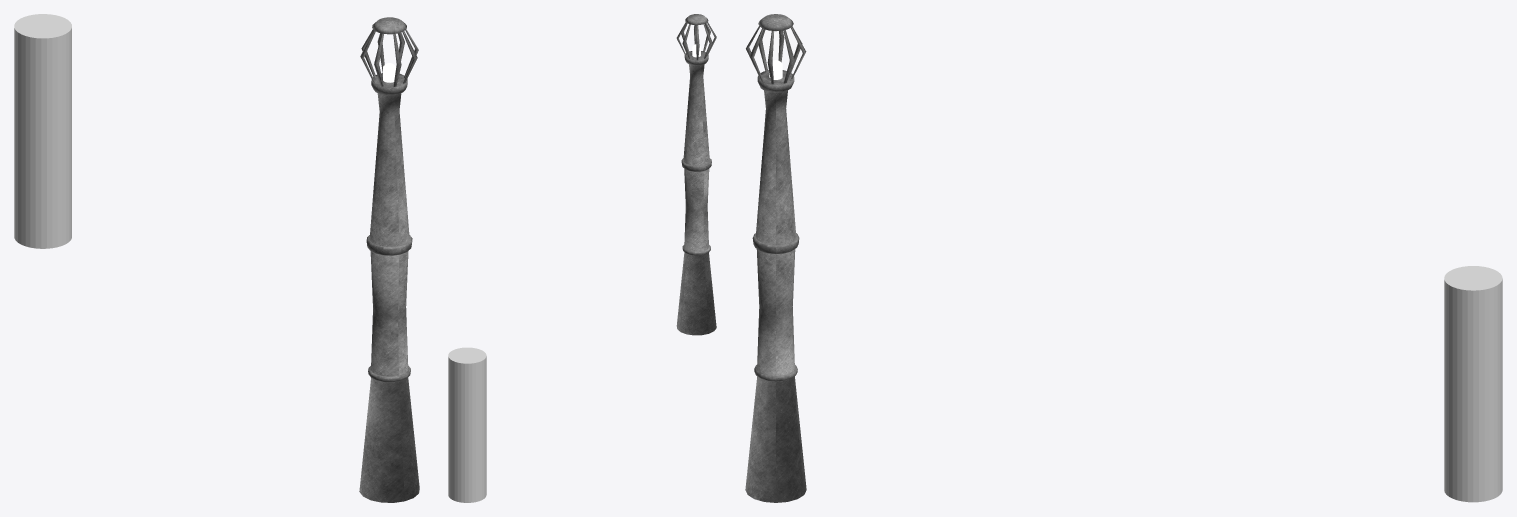
The model's file is lamp_post.glb.
The picture shows the model from 3 angles, left to right: view 1: azimuth 30°, elevation 25°; view 2: azimuth 150°, elevation 25°; view 3: azimuth 270°, elevation 25°; orthographic projection. The views are drawn at different scales.
Visible parts, largest first — view 1: Lamp Post.001, Ref-noimp; view 2: Lamp Post.001, Ref-noimp; view 3: Lamp Post.001, Ref-noimp.
Part boxes in pixels (x1,y1,x2,y2): Lamp Post.001: [359, 17, 419, 502]; Ref-noimp: [14, 14, 71, 248]; Lamp Post.001: [676, 14, 716, 335]; Ref-noimp: [448, 347, 486, 502]; Lamp Post.001: [745, 14, 806, 502]; Ref-noimp: [1444, 266, 1502, 502].
Size of what is drawn, in the model's own units: 0.5246 by 4.44 by 6.48.
2 materials, 1 textured.
